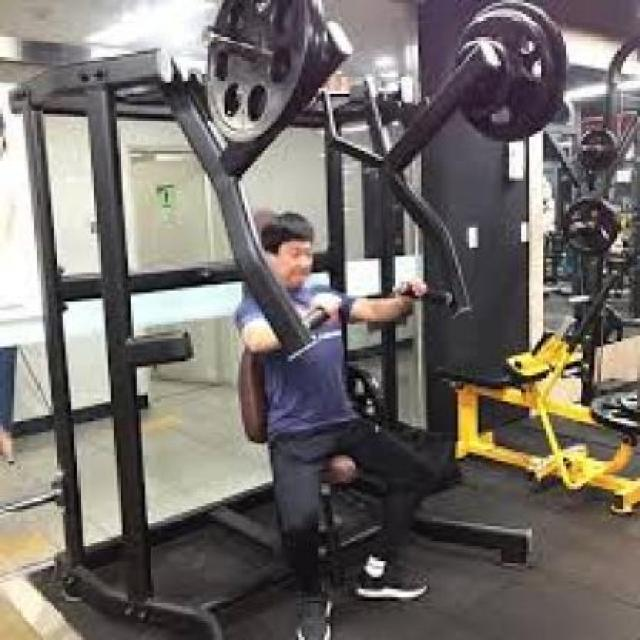Chest Press machine: (15, 0, 568, 640)
